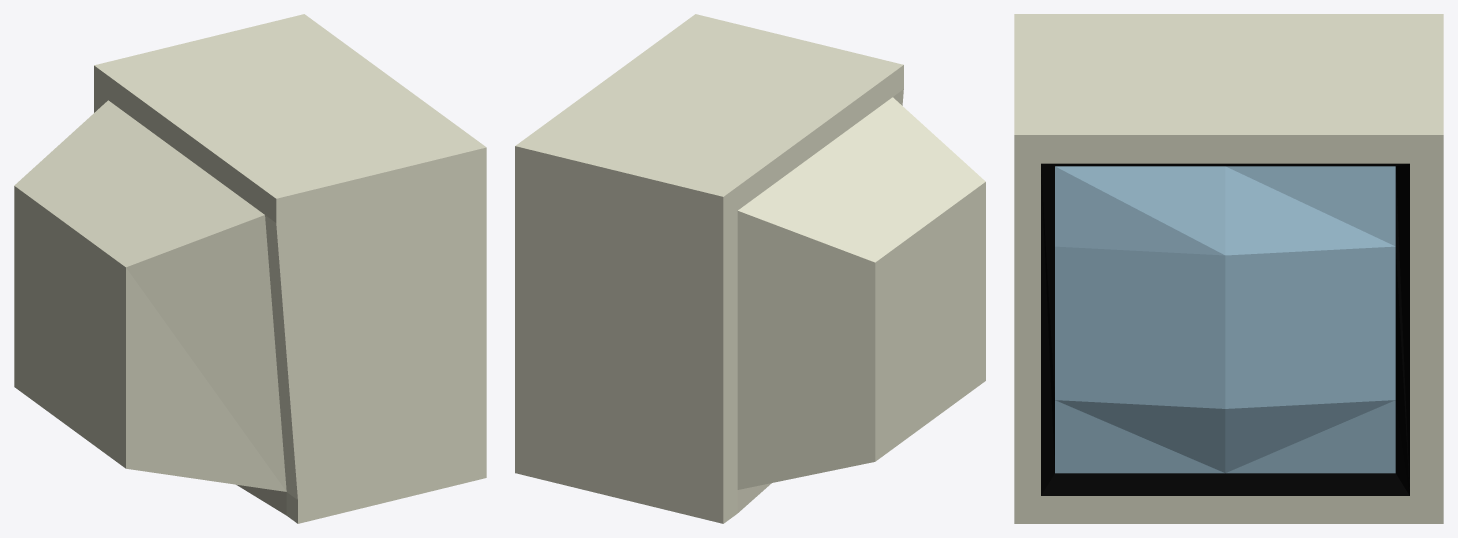
The model's file is Computer_Monitor.fbx.
3 renders of one model, left to right at view 1: azimuth 30°, elevation 25°; view 2: azimuth 150°, elevation 25°; view 3: azimuth 270°, elevation 25°, orthographic. The views are drawn at different scales.
Parts seen in each view (by area): view 1: Computer_Monitor; view 2: Computer_Monitor; view 3: Computer_Monitor.
Part boxes in pixels (box(x1,y1,x2,y2)): Computer_Monitor: box(14, 14, 486, 523); Computer_Monitor: box(515, 14, 985, 523); Computer_Monitor: box(1014, 14, 1443, 523).
Size of the model in its own units: 78.69 by 75 by 75.
